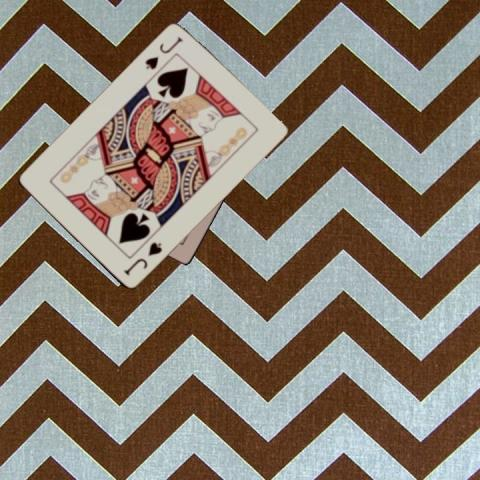Js: (121, 240, 164, 278), (142, 34, 184, 72)
